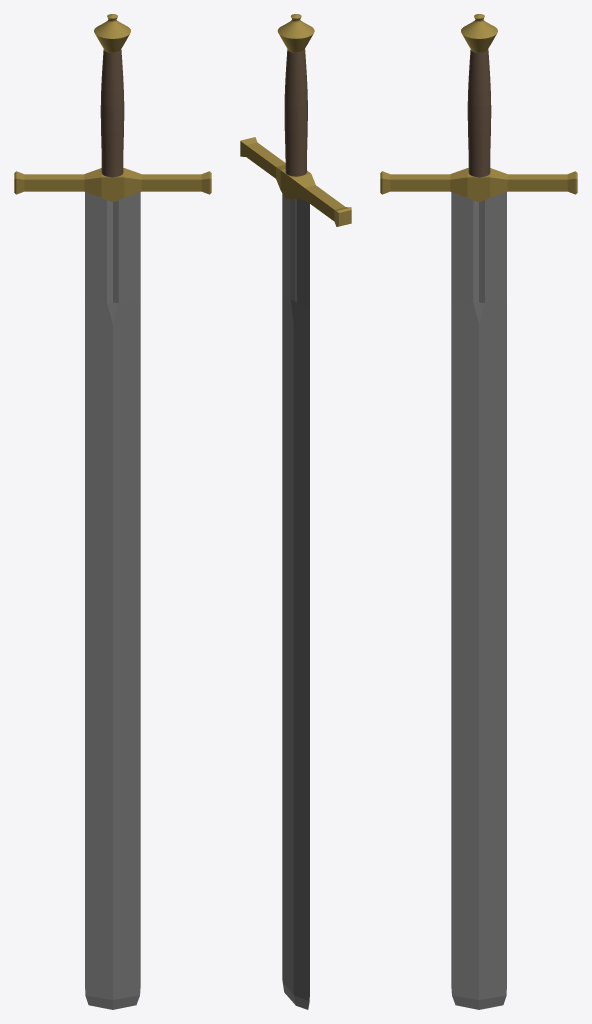
File: Sword.glb
3 views of the same model, side by side, from view 1: azimuth 90°, elevation 25°; view 2: azimuth 210°, elevation 25°; view 3: azimuth 270°, elevation 25° (orthographic).
Parts seen in each view (by area): view 1: Cube, Cube.001, Cylinder, Cone; view 2: Cube, Cylinder, Cube.001, Cone; view 3: Cube, Cube.001, Cylinder, Cone.
Part boxes in pixels (bbox=[...]): Cube: bbox=[85, 192, 140, 1009]; Cube.001: bbox=[14, 168, 211, 202]; Cylinder: bbox=[100, 49, 124, 177]; Cone: bbox=[94, 14, 130, 52]; Cube: bbox=[282, 193, 309, 1009]; Cylinder: bbox=[284, 49, 307, 176]; Cube.001: bbox=[240, 137, 351, 226]; Cone: bbox=[277, 14, 314, 52]; Cube: bbox=[451, 192, 506, 1009]; Cube.001: bbox=[380, 168, 577, 202]; Cylinder: bbox=[467, 49, 491, 177]; Cone: bbox=[461, 14, 497, 52].
Bounding box in the file's own units: 0.1406 × 4.16 × 0.7487.
